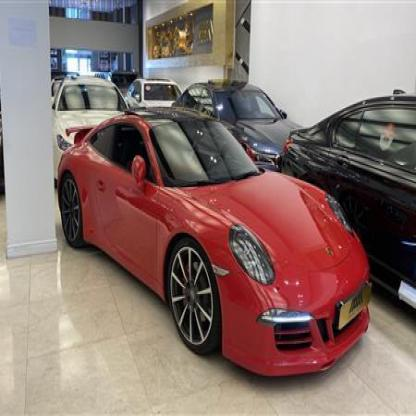Car: (63, 126, 375, 390), (275, 90, 416, 320), (187, 65, 308, 178), (33, 74, 128, 188), (127, 73, 176, 125)
